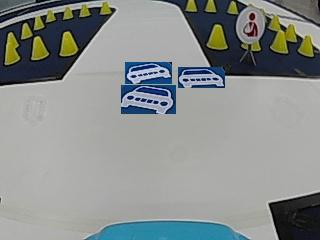cone: (206, 24, 228, 50), (4, 33, 20, 64), (59, 31, 78, 56), (31, 36, 49, 60), (272, 31, 288, 53), (299, 35, 314, 57), (268, 14, 281, 30), (21, 23, 33, 38), (33, 15, 45, 29), (99, 2, 111, 15), (185, 0, 197, 12), (79, 4, 90, 17), (62, 6, 73, 19), (227, 1, 238, 14), (205, 1, 217, 12), (45, 9, 56, 21)
patient: (237, 6, 264, 41)
